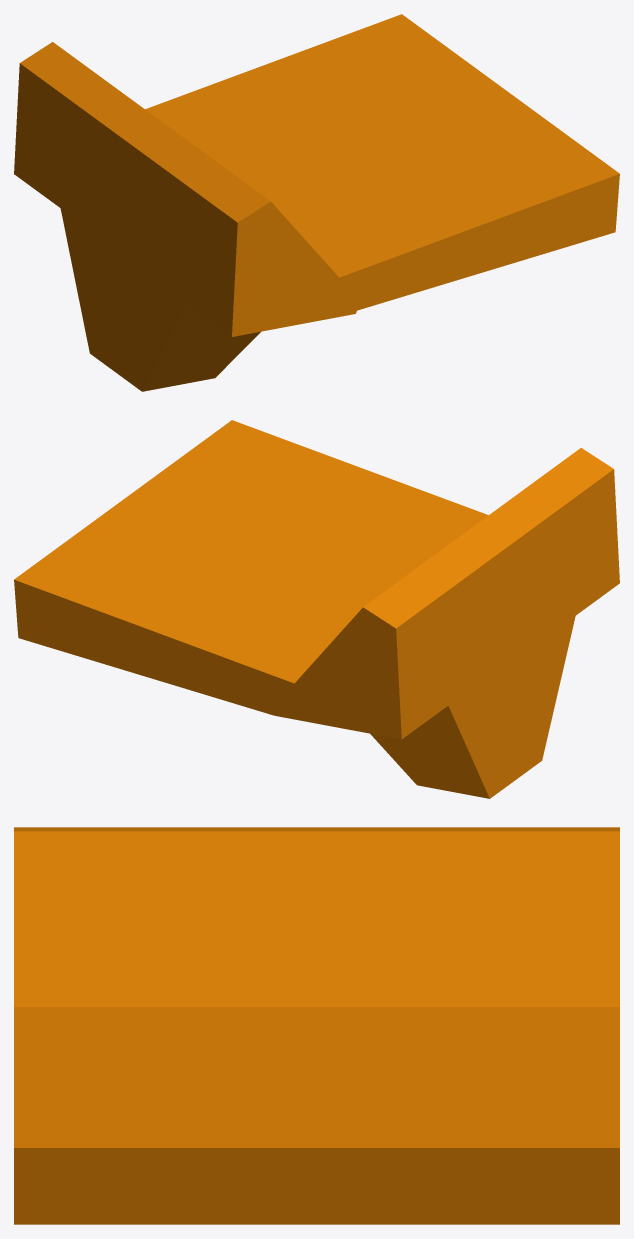
File: swarmfarmv2_back_chassis_body.dae
3 renders of one model, top to bottom at view 1: azimuth 30°, elevation 25°; view 2: azimuth 150°, elevation 25°; view 3: azimuth 270°, elevation 25°, orthographic. The views are drawn at different scales.
Parts seen in each view (by area): view 1: node0.002; view 2: node0.002; view 3: node0.002.
Part boxes in pixels (x1=…): node0.002: x1=14, y1=14, x2=619, y2=391; node0.002: x1=14, y1=420, x2=619, y2=798; node0.002: x1=14, y1=827, x2=619, y2=1224.
Size of the model in its own units: 1.04 by 1 by 0.6197.
